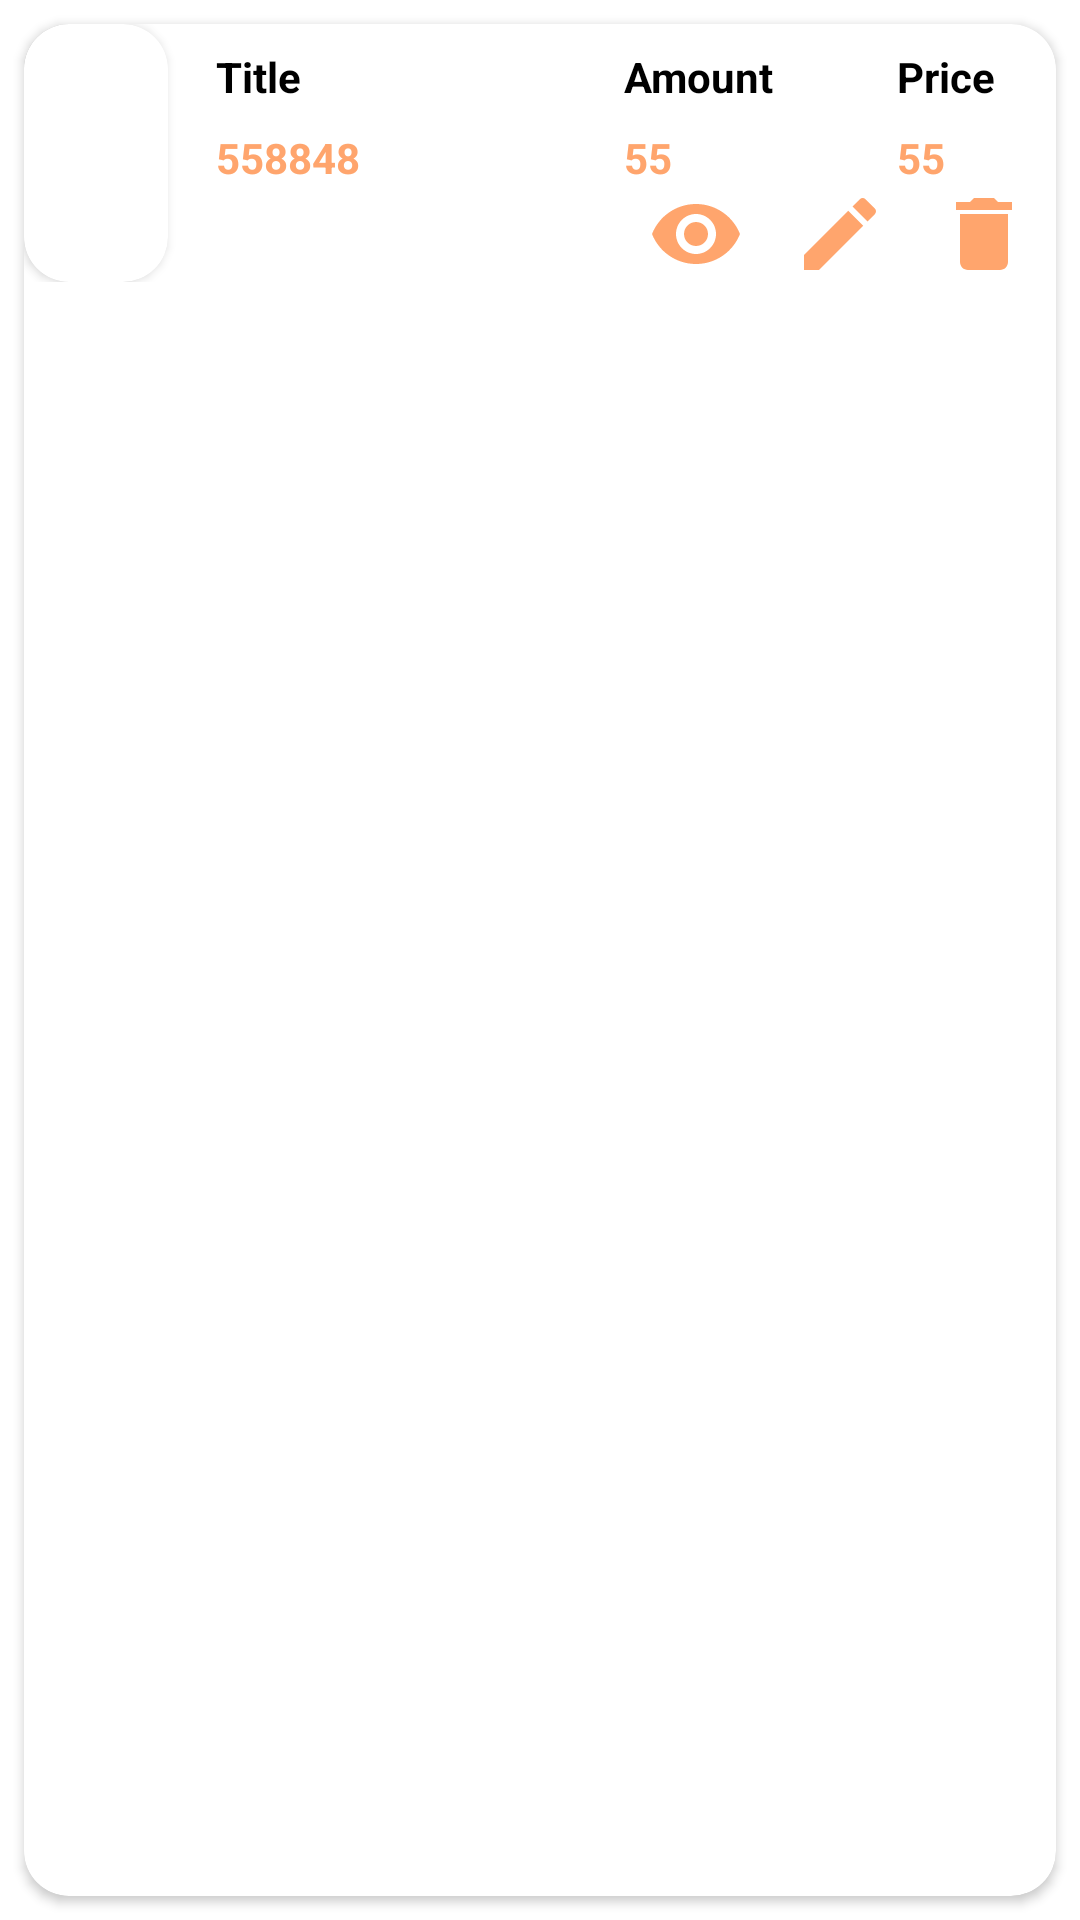

Point at icon controls on the screen. Image size 1080px x 1920px, points as (x=x, y=y).
delete: (x=984, y=234)
edit: (x=840, y=234)
visible: (x=696, y=234)
